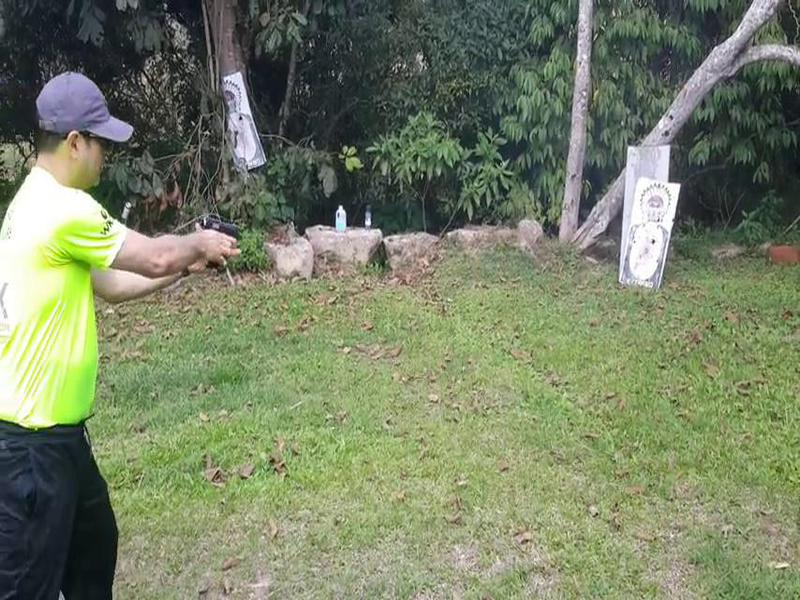Pistola: (190, 208, 258, 266)
